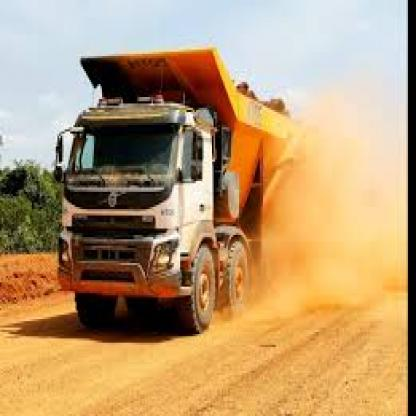dump_truck: (52, 34, 320, 356)
